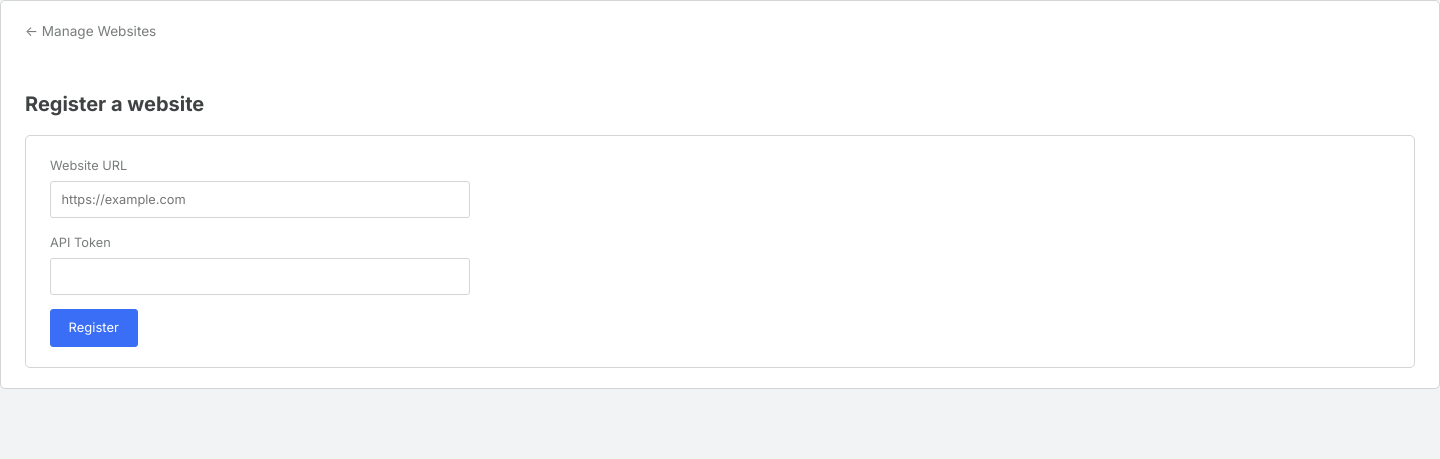
Test: RegisterSitePage › a registration error is shown inline without navigating away
In the field labelled "Website URL": (260, 200) [50, 181, 470, 218], type "https://client-one.example.com"
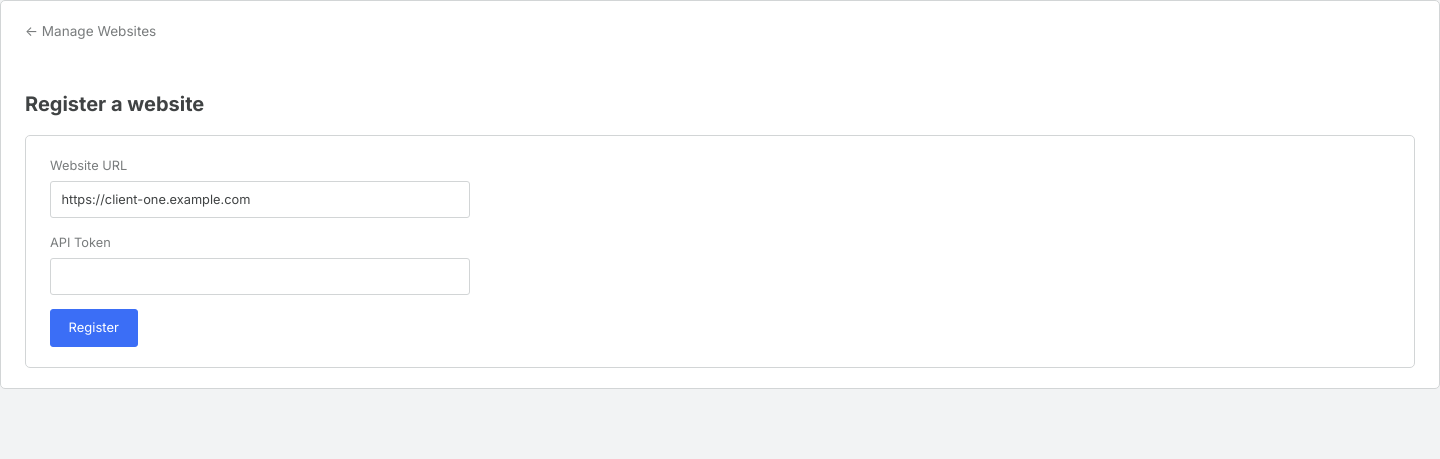
In the field labelled "API Token": (260, 276) [50, 258, 470, 295], type "a-real-token"
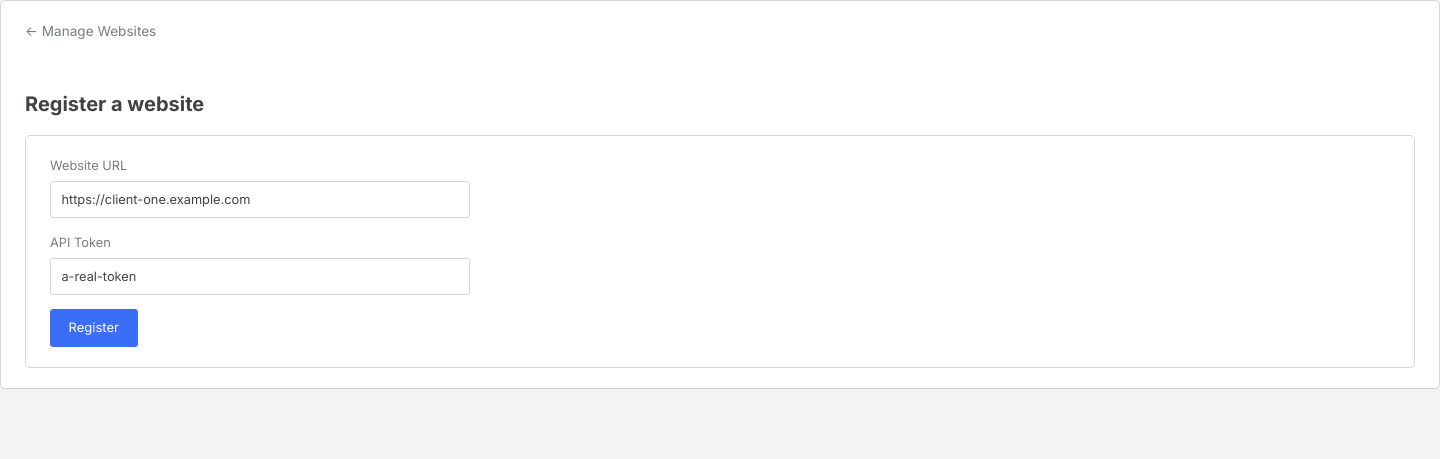
Click the button "Register": (94, 328) [50, 309, 138, 347]
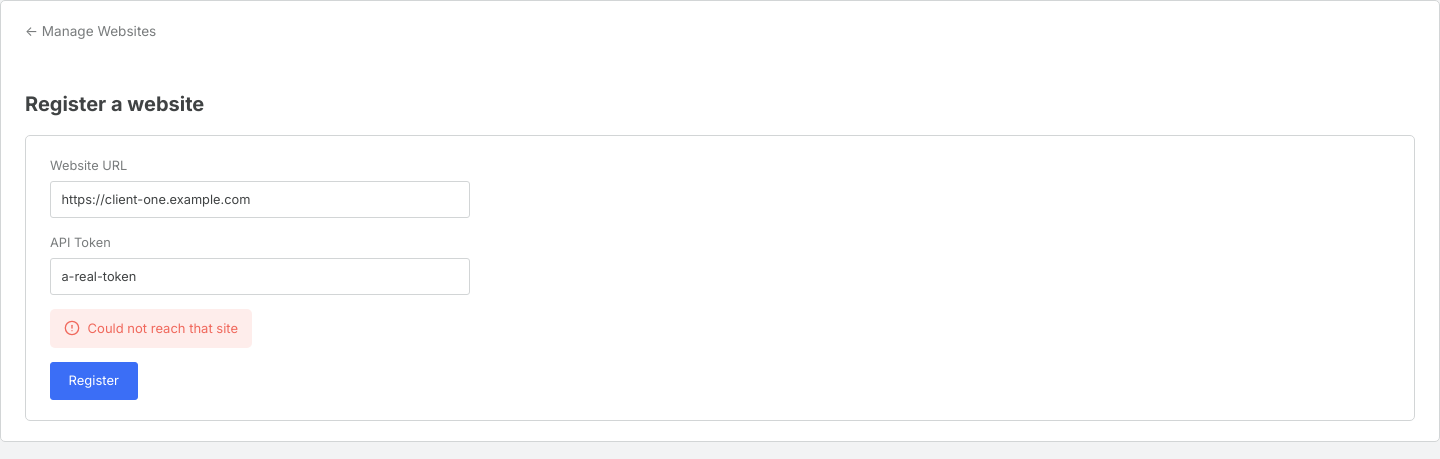
Now the text "Could not reach that site" is shown, box [50, 309, 252, 348]
